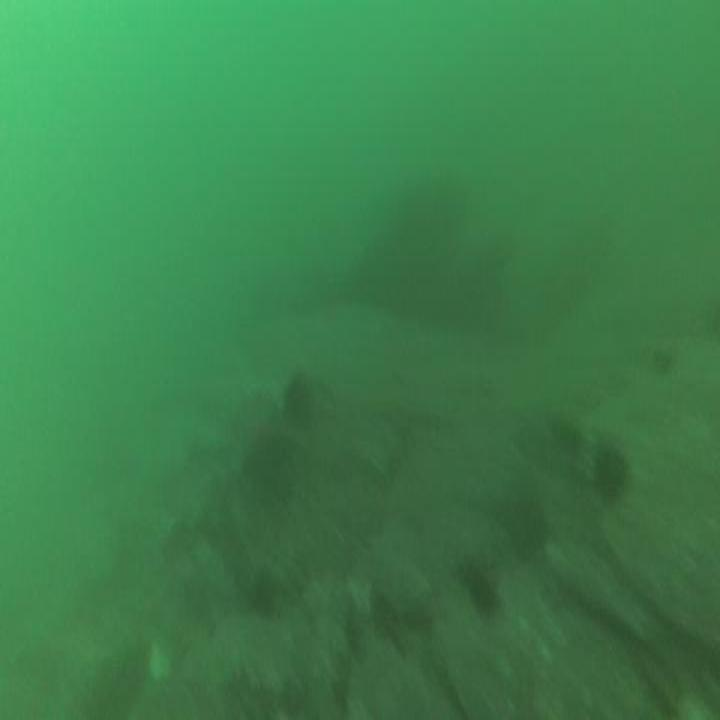echinus: (592, 446, 623, 498), (285, 381, 312, 423)
starfish: (237, 406, 290, 486)
